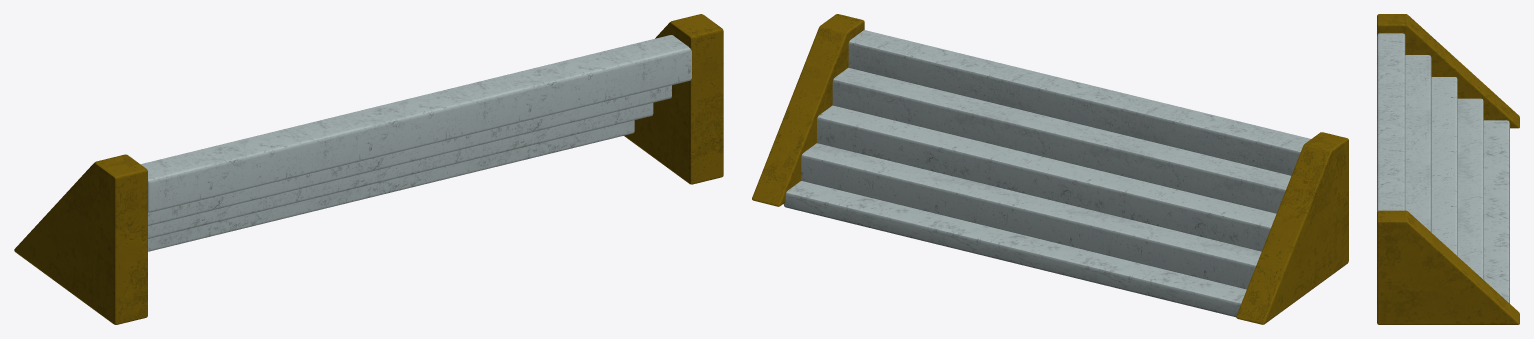
File: RC_Villa_Steps_02.gltf
3 views of the same model, side by side, from view 1: azimuth 30°, elevation 25°; view 2: azimuth 150°, elevation 25°; view 3: azimuth 270°, elevation 25° (orthographic). The views are drawn at different scales.
Parts seen in each view (by area): view 1: RC_Villa_Steps_02(Clone); view 2: RC_Villa_Steps_02(Clone); view 3: RC_Villa_Steps_02(Clone).
Boxes of the visible parts, left/top/right/bottom form: RC_Villa_Steps_02(Clone): left=14, top=14, right=723, bottom=324; RC_Villa_Steps_02(Clone): left=752, top=14, right=1348, bottom=324; RC_Villa_Steps_02(Clone): left=1377, top=14, right=1519, bottom=324.
Bounding box in the file's own units: 4.57 × 1.11 × 1.32.
Materials: 2 (2 with a texture image).
